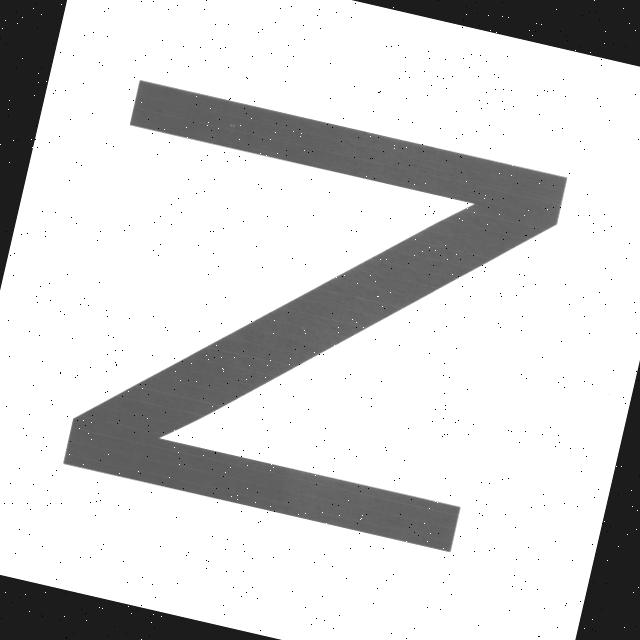z: (9, 50, 582, 582)
